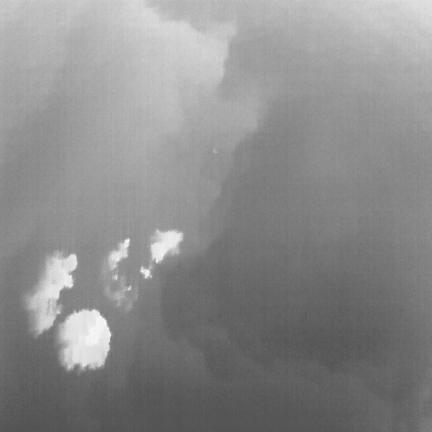flukeprints: (58, 310, 111, 370), (38, 252, 77, 301), (151, 230, 182, 262), (109, 238, 130, 272)
